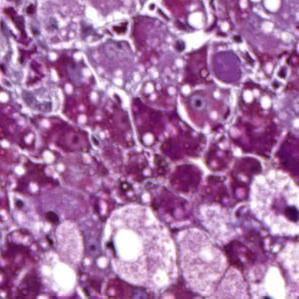ballooning: (99, 202, 183, 291), (246, 168, 297, 240)
